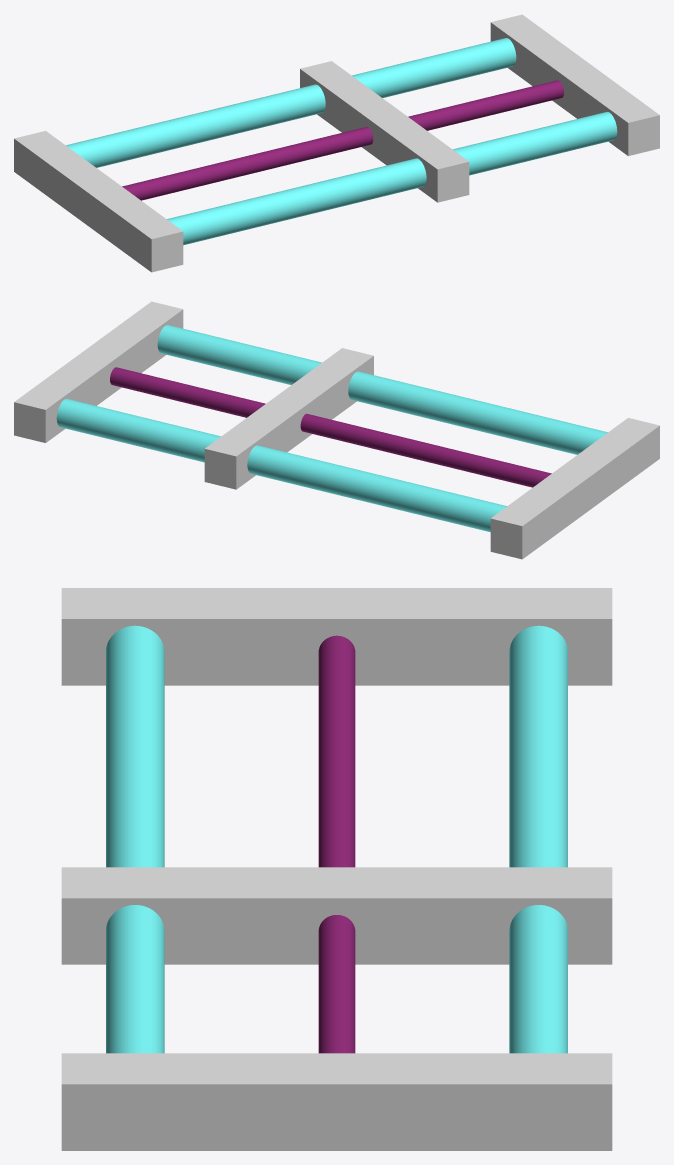
The picture shows the model from 3 angles, top to bottom: view 1: azimuth 30°, elevation 25°; view 2: azimuth 150°, elevation 25°; view 3: azimuth 270°, elevation 25°; orthographic projection. The views are drawn at different scales.
Parts seen in each view (by area): view 1: out.rails.rail_0001, out.rails.rail_0000, out.drive_end.box, out.carriage.box, out.idle_end.box, out.drive.drive; view 2: out.rails.rail_0000, out.rails.rail_0001, out.drive_end.box, out.carriage.box, out.idle_end.box, out.drive.drive; view 3: out.idle_end.box, out.carriage.box, out.drive_end.box, out.rails.rail_0000, out.rails.rail_0001, out.drive.drive.
Part boxes in pixels (x1,y1,x2,y2): out.rails.rail_0001: (167,112,617,245); out.rails.rail_0000: (66,38,516,167); out.drive_end.box: (14,131,183,272); out.carriage.box: (300,61,469,202); out.idle_end.box: (490,14,659,155); out.drive.drive: (122,80,563,200); out.rails.rail_0000: (56,399,506,532); out.rails.rail_0001: (157,325,607,454); out.drive_end.box: (490,418,659,559); out.carriage.box: (204,348,373,489); out.idle_end.box: (14,301,183,442); out.drive.drive: (110,367,551,487); out.idle_end.box: (61,1053,612,1150); out.carriage.box: (61,867,612,964); out.drive_end.box: (61,588,612,685); out.rails.rail_0000: (509,625,567,1053); out.rails.rail_0001: (106,625,164,1053); out.drive.drive: (318,635,355,1053).
Bounding box in the file's own units: 0.16 × 0.01 × 0.075.
